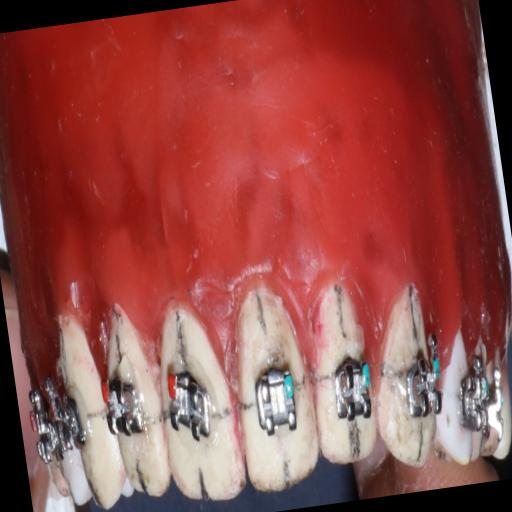incorrect_brace: (162, 362, 219, 452), (252, 358, 301, 438)
